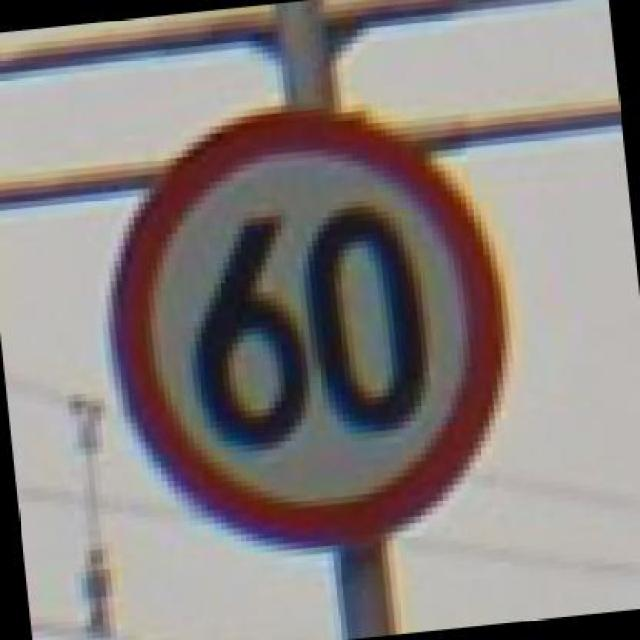Limite-60: (106, 101, 508, 556)
